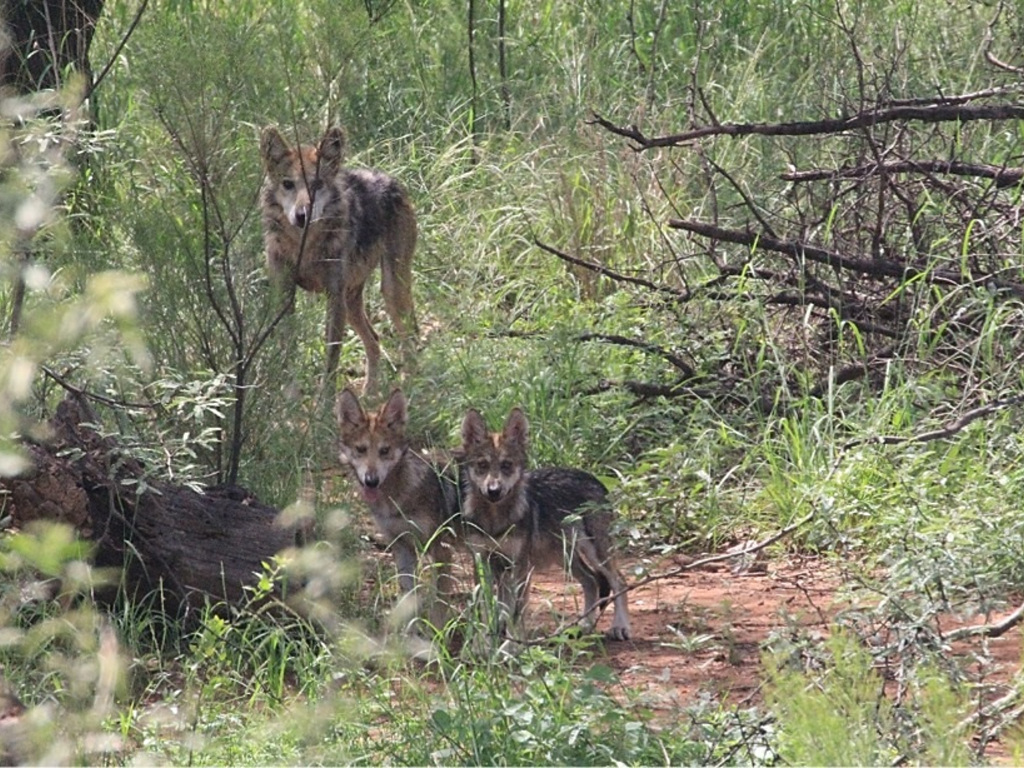Lobo: (453, 386, 679, 641), (210, 110, 406, 381), (330, 377, 460, 654)
